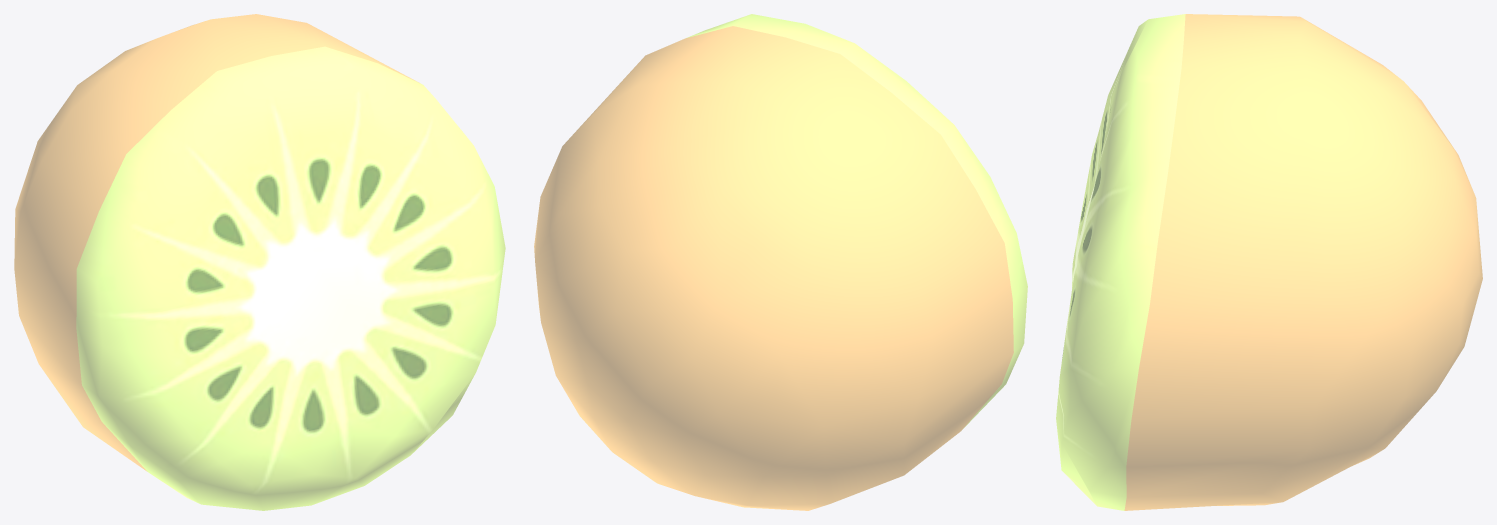
The model's file is brown_kiwi.glb.
The picture shows the model from 3 angles, left to right: view 1: azimuth 30°, elevation 25°; view 2: azimuth 150°, elevation 25°; view 3: azimuth 270°, elevation 25°; orthographic projection. The views are drawn at different scales.
Visible parts, largest first — view 1: Brown_Kiwi; view 2: Brown_Kiwi; view 3: Brown_Kiwi.
Boxes of the visible parts, <box> form: Brown_Kiwi: <box>14,14,505,510</box>; Brown_Kiwi: <box>534,14,1027,510</box>; Brown_Kiwi: <box>1056,14,1482,510</box>.
Size of the model in its own units: 0.3636 by 0.3604 by 0.3097.
Materials: 1 (1 with a texture image).
